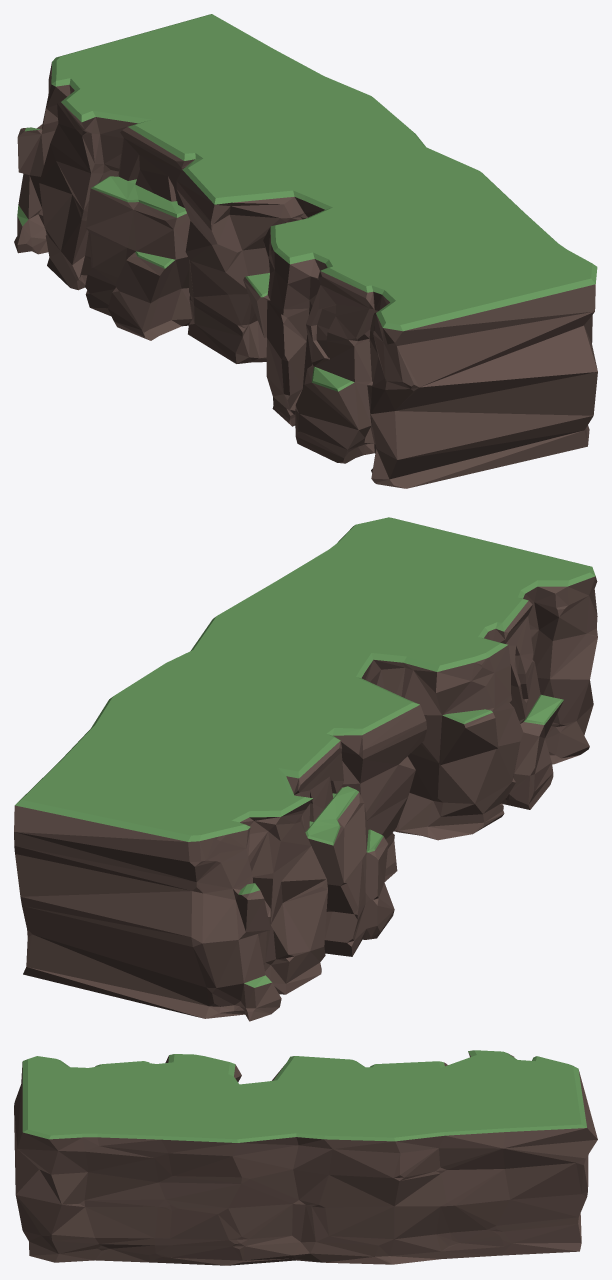
The model's file is Cliff L 4.fbx.
3 renders of one model, top to bottom at view 1: azimuth 30°, elevation 25°; view 2: azimuth 150°, elevation 25°; view 3: azimuth 270°, elevation 25°, orthographic. The views are drawn at different scales.
Parts seen in each view (by area): view 1: Cliff 14; view 2: Cliff 14; view 3: Cliff 14.
Part boxes in pixels (x1=…): Cliff 14: x1=14, y1=14, x2=597, y2=488; Cliff 14: x1=14, y1=517, x2=597, y2=1021; Cliff 14: x1=14, y1=1050, x2=597, y2=1265.
Size of the model in its own units: 170 by 104 by 424.
